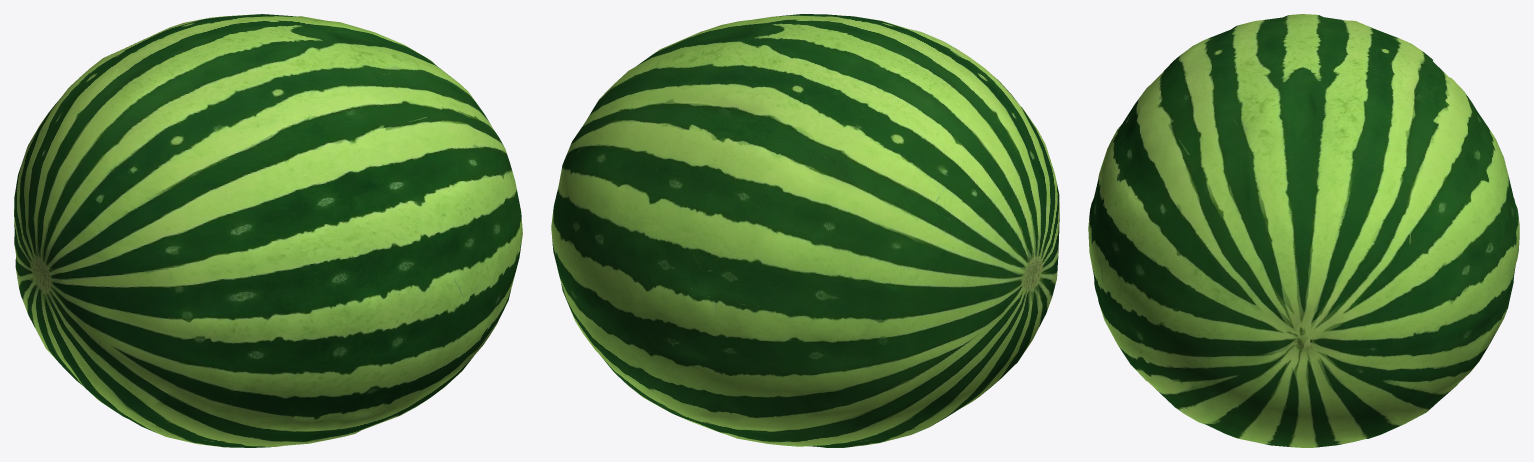
The model's file is watermelon.glb.
3 renders of one model, left to right at view 1: azimuth 30°, elevation 25°; view 2: azimuth 150°, elevation 25°; view 3: azimuth 270°, elevation 25°, orthographic. The views are drawn at different scales.
Parts seen in each view (by area): view 1: Object_5; view 2: Object_5; view 3: Object_5.
Boxes of the visible parts, x1,y1,x2,y2 form: Object_5: (14,14,522,447); Object_5: (551,14,1059,447); Object_5: (1088,14,1519,447).
Size of the model in its own units: 1.92 by 1.6 by 1.73.
Materials: 1 (1 with a texture image).
